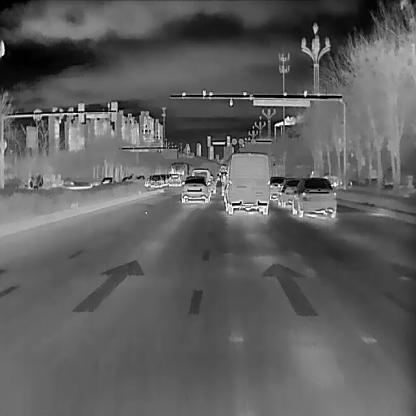bus: (168, 158, 189, 179)
car: (222, 151, 269, 214), (292, 176, 335, 219), (180, 174, 209, 205), (278, 178, 300, 209), (192, 166, 211, 191), (270, 176, 288, 200), (166, 172, 182, 188), (148, 173, 162, 189)
